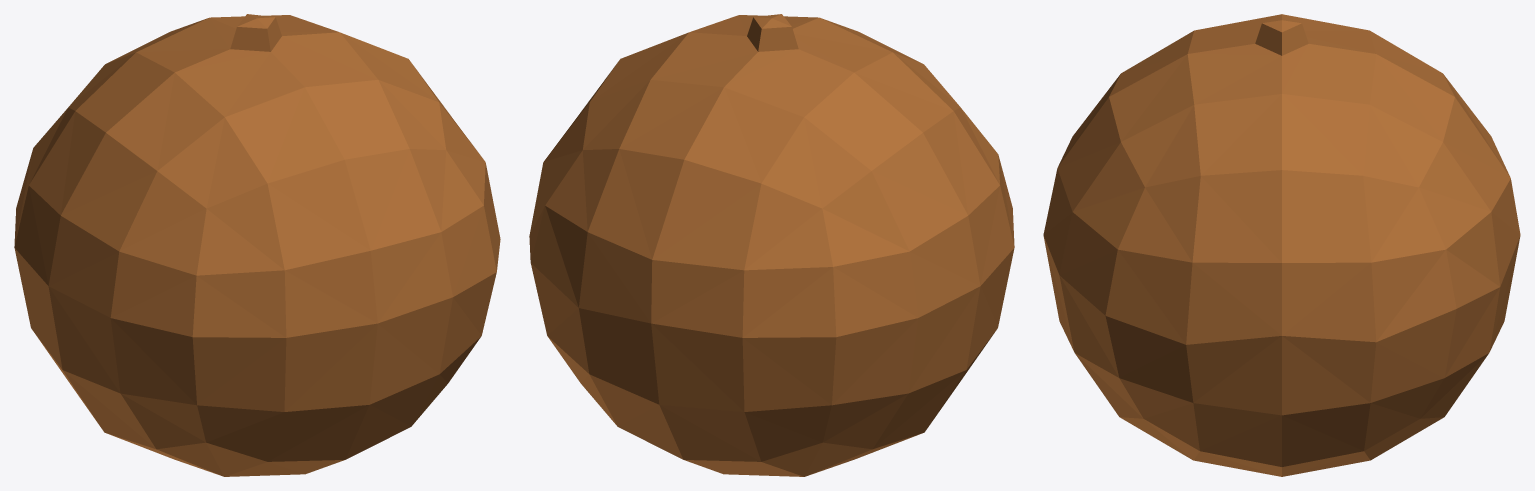
File: produce_orange.glb
The picture shows the model from 3 angles, left to right: view 1: azimuth 30°, elevation 25°; view 2: azimuth 150°, elevation 25°; view 3: azimuth 270°, elevation 25°; orthographic projection.
Size of the model in its own units: 1 by 0.9967 by 1.
